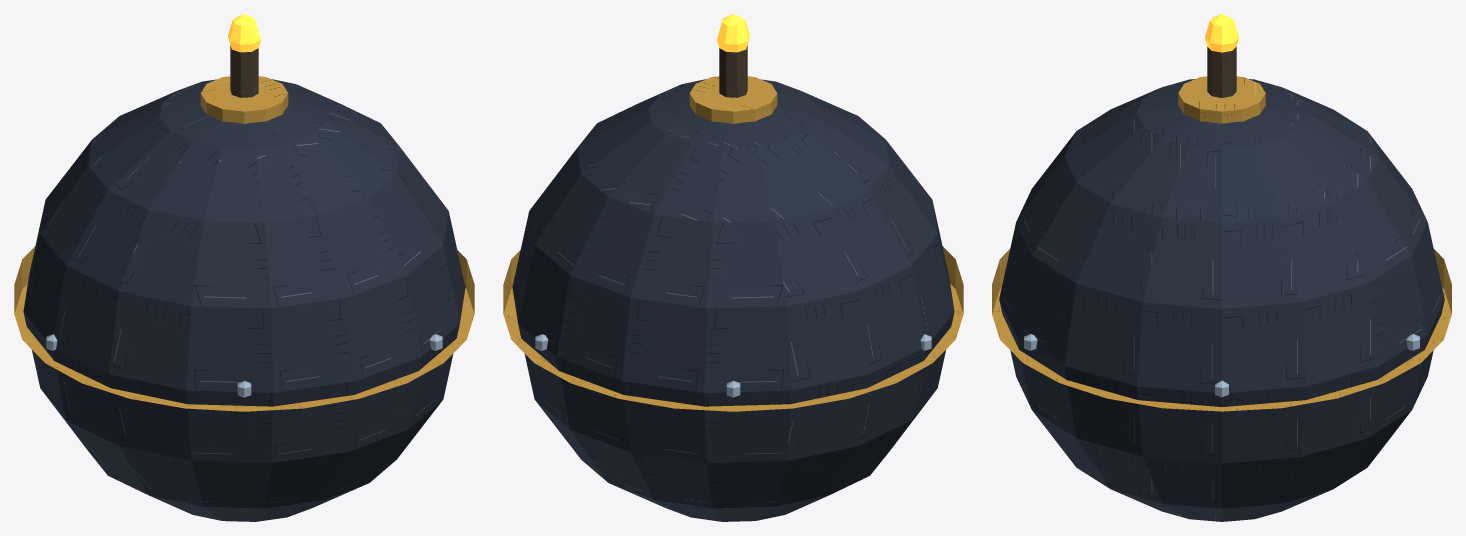
File: blast.glb
3 views of the same model, side by side, from view 1: azimuth 30°, elevation 25°; view 2: azimuth 150°, elevation 25°; view 3: azimuth 270°, elevation 25° (orthographic).
Visible parts, largest first — view 1: body, fuse; view 2: body, fuse; view 3: body, fuse.
Part boxes in pixels (box(x1,y1,x2,y2)): body: box(14, 76, 474, 521); fuse: box(228, 14, 260, 97); body: box(503, 76, 963, 521); fuse: box(717, 14, 749, 97); body: box(992, 76, 1451, 521); fuse: box(1205, 14, 1238, 97).
Bounding box in the file's own units: 0.3468 × 0.4054 × 0.3468.
5 materials, 5 textured.
